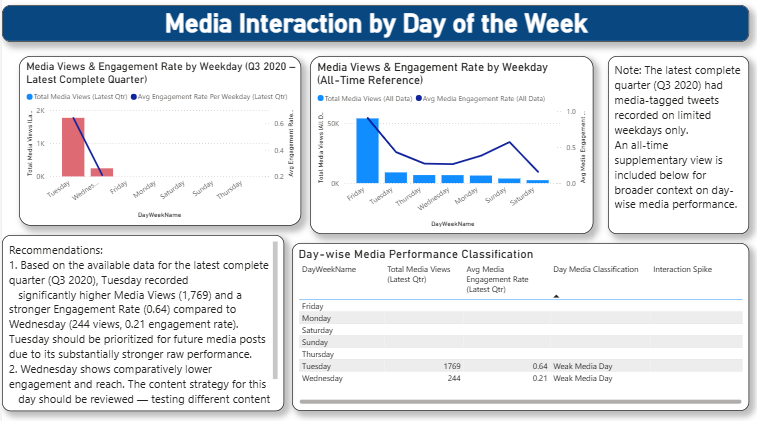

The dashboard page shown, as its layout file describes it:
{"tool":"powerbi","page":{"name":"Task- 3","canvas":[1280,720],"ordinal":2},"visuals":[{"type":"lineStackedColumnComboChart","title":"Media Views & Engagement Rate by Weekday (All-Time Reference)","fields":{"Category":["SocialMedia (1).DayWeekName"],"Y":["SocialMedia (1).Total Media Views (All Data)"],"Y2":["SocialMedia (1).Avg Media Engagement Rate (All Data)"]},"box":[517,103.4,476,299.5],"z":0},{"type":"lineStackedColumnComboChart","title":"Media Views & Engagement Rate by Weekday (Q3 2020 – Latest Complete Quarter)","fields":{"Category":["SocialMedia (1).DayWeekName"],"Y2":["SocialMedia (1).Avg Engagement Rate Per Weekday (Latest Qtr)"],"Y":["SocialMedia (1).Total Media Views (Latest Qtr)"]},"box":[28.5,103.4,474.2,285.2],"z":1000},{"type":"textbox","box":[1017.9,103.4,237.1,299.5],"z":2000},{"type":"tableEx","title":"Day-wise Media Performance Classification","fields":{"Values":["SocialMedia (1).DayWeekName","SocialMedia (1).Total Media Views (Latest Qtr)","SocialMedia (1).Avg Media Engagement Rate (Latest Qtr)","SocialMedia (1).Day Media Classification","SocialMedia (1).Interaction Spike"]},"box":[486.7,418.9,768.4,281.7],"z":3000},{"type":"textbox","box":[0,404.7,474.2,295.9],"z":4000},{"type":"textbox","title":"Media Interaction by Day of the Week","box":[0,17.8,1255,62.4],"z":5000}]}

Visuals, with their boxes in screenshot pixels (x1, y1, x2, y2), scaled from the page's 1280x720 canvas onto the 757x421 screenshot:
"Media Views & Engagement Rate by Weekday (All-Time Reference)" lineStackedColumnComboChart: 306:60:587:236
"Media Views & Engagement Rate by Weekday (Q3 2020 – Latest Complete Quarter)" lineStackedColumnComboChart: 17:60:297:227
textbox: 602:60:742:236
"Day-wise Media Performance Classification" tableEx: 288:245:742:410
textbox: 0:237:280:410
"Media Interaction by Day of the Week" textbox: 0:10:742:47
